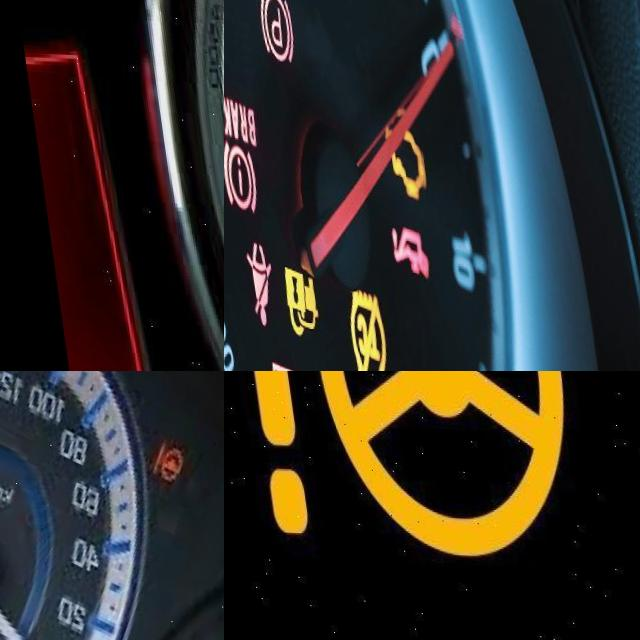Electronic Power Steering Warning: (224, 371, 566, 556), (139, 438, 185, 485)
Seat Belt: (231, 239, 269, 324)
